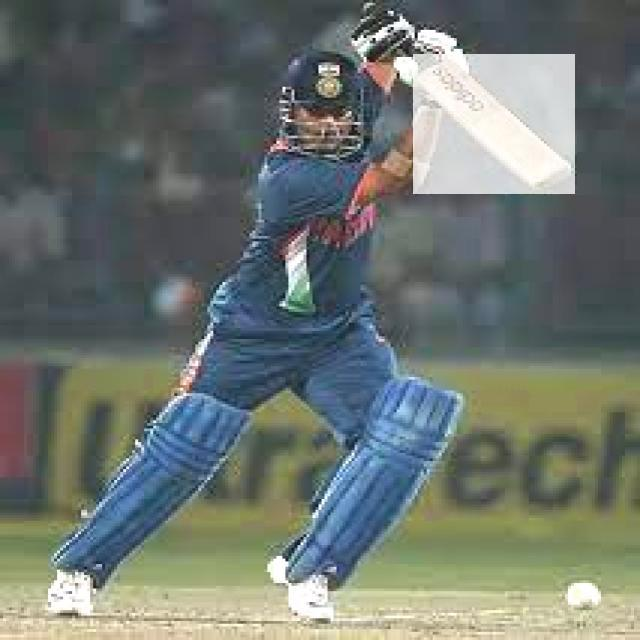bat: (412, 51, 578, 196)
toe: (527, 166, 577, 192)
